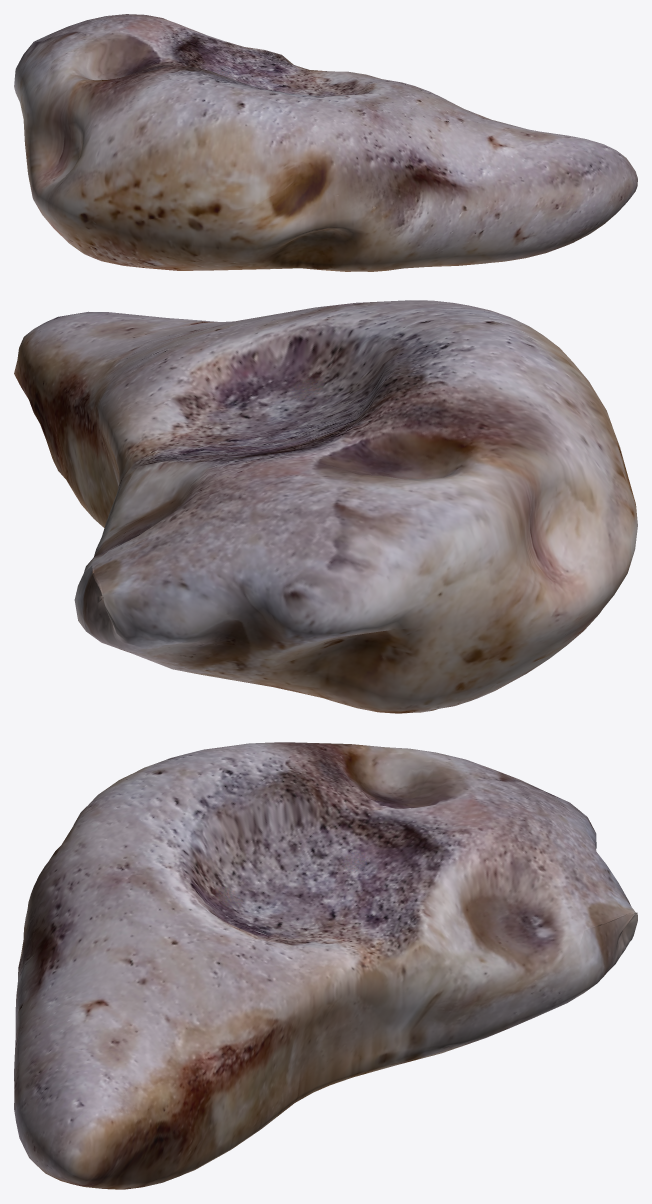
File: BeachRock9.fbx
3 renders of one model, top to bottom at view 1: azimuth 30°, elevation 25°; view 2: azimuth 150°, elevation 25°; view 3: azimuth 270°, elevation 25°, orthographic. The views are drawn at different scales.
Visible parts, largest first — view 1: BeachRock9_LOD0; view 2: BeachRock9_LOD0; view 3: BeachRock9_LOD0.
Part boxes in pixels (left/top/right/bottom): BeachRock9_LOD0: left=14, top=14, right=637, bottom=271; BeachRock9_LOD0: left=14, top=300, right=637, bottom=713; BeachRock9_LOD0: left=14, top=742, right=637, bottom=1189.
Size of what is drawn, in the model's own units: 29.24 by 11.04 by 24.9.
